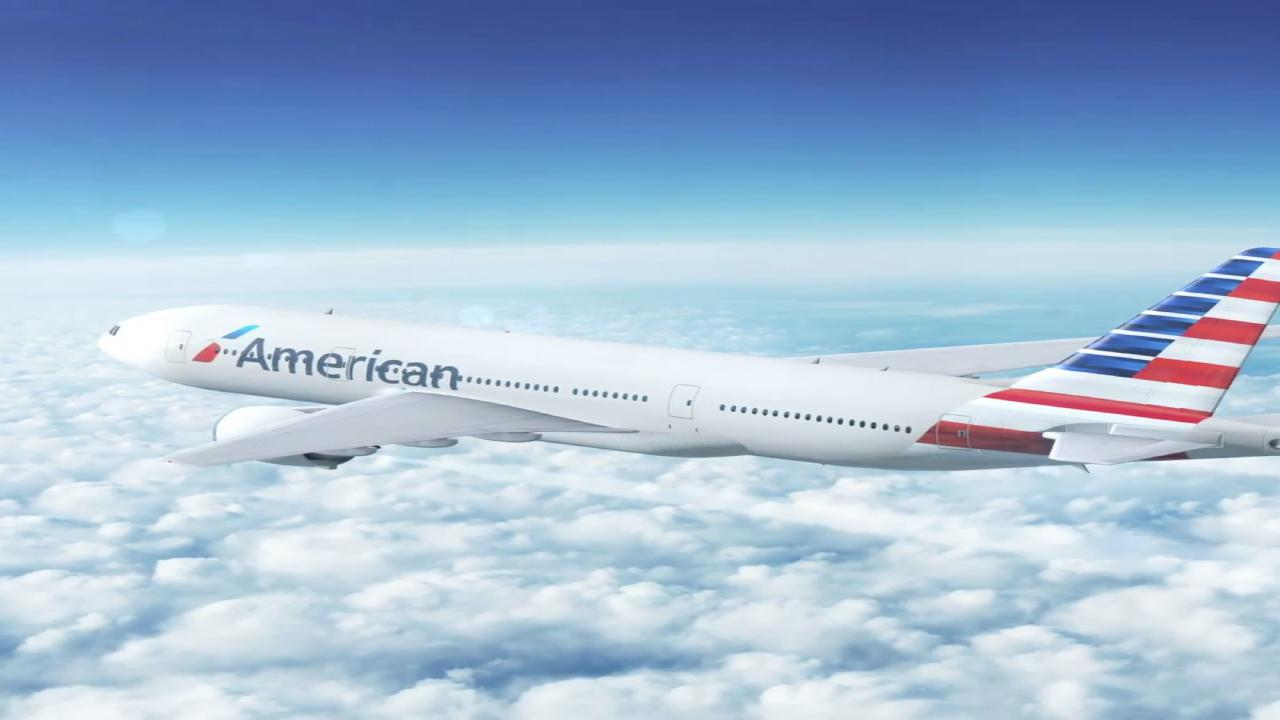Airplane: (72, 235, 1280, 503)
